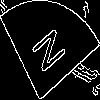N: (25, 25, 67, 81)
